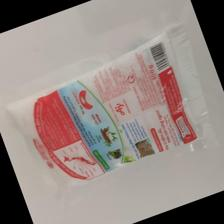Ajinomoto: (2, 33, 204, 194)
